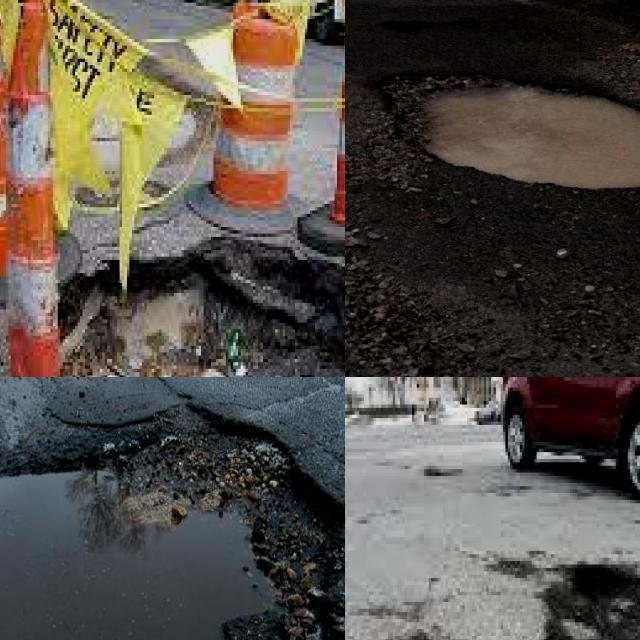Pothole: (0, 405, 345, 640), (63, 250, 345, 377), (372, 74, 640, 188)
